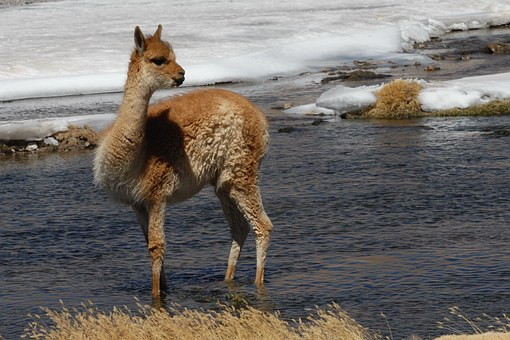alpaca: (90, 23, 273, 302)
